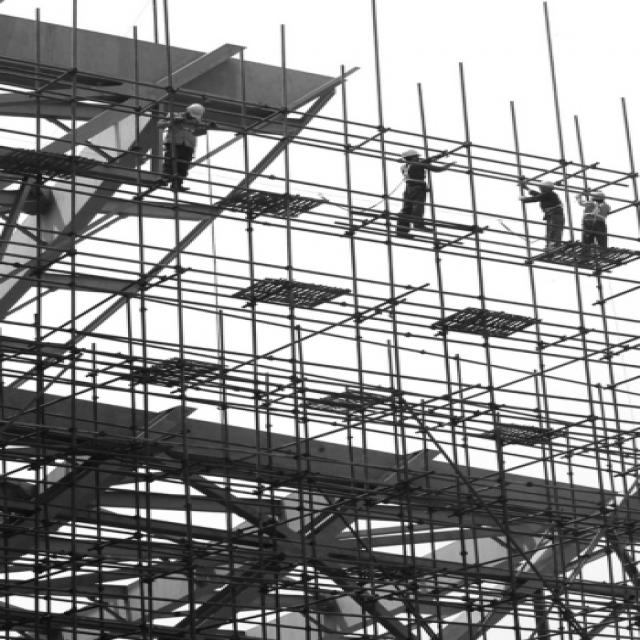Reflective-Jacket: (162, 116, 206, 150), (399, 163, 435, 195), (538, 192, 568, 220), (581, 200, 611, 222)
Safety-Helmet: (183, 101, 210, 117), (397, 147, 424, 161), (589, 188, 611, 200)
